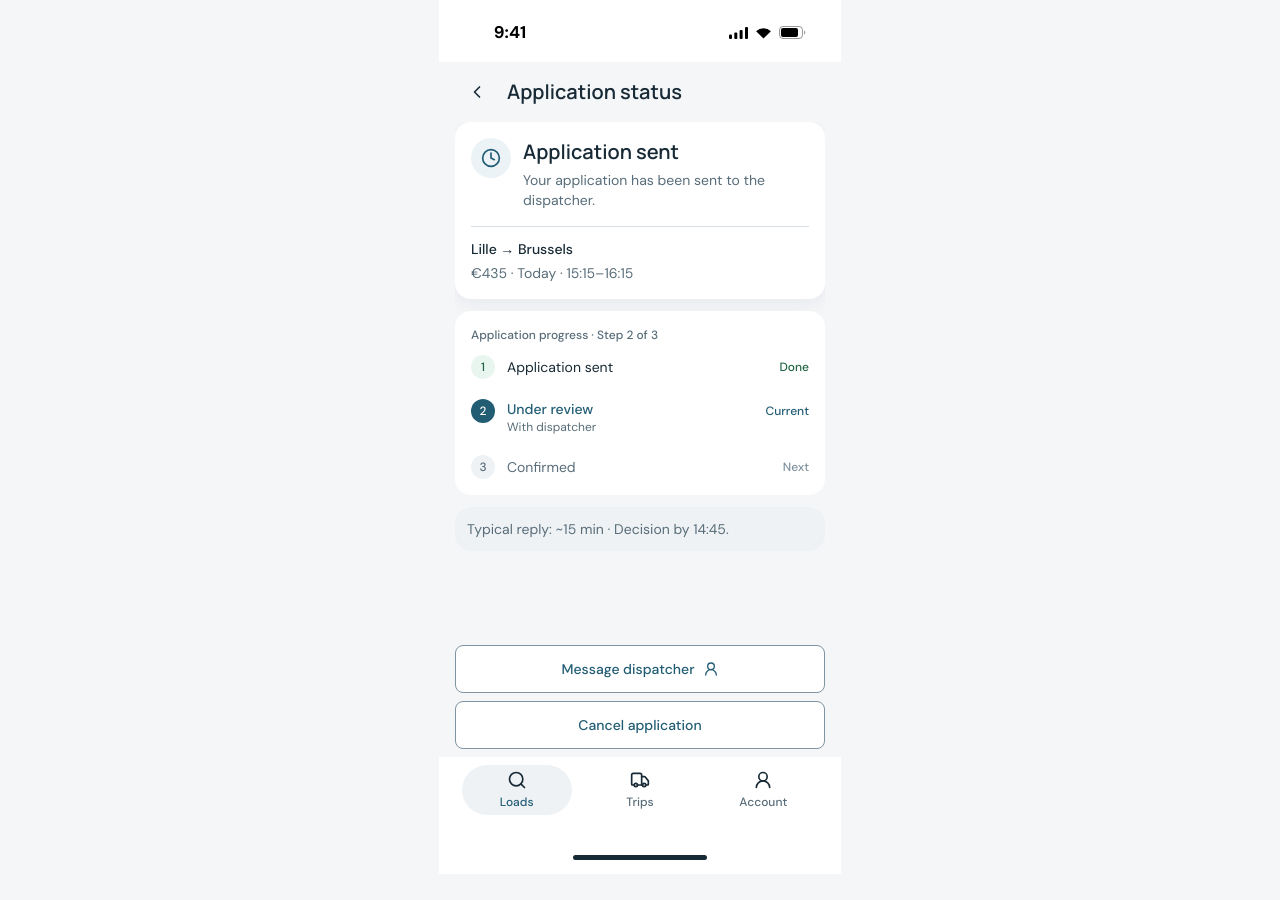
Test case: ApplicationTrackerView cancel confirmation › opens a sheet before cancelling
Click the button "Cancel application".
click(640, 725)  # box [455,701,825,749]
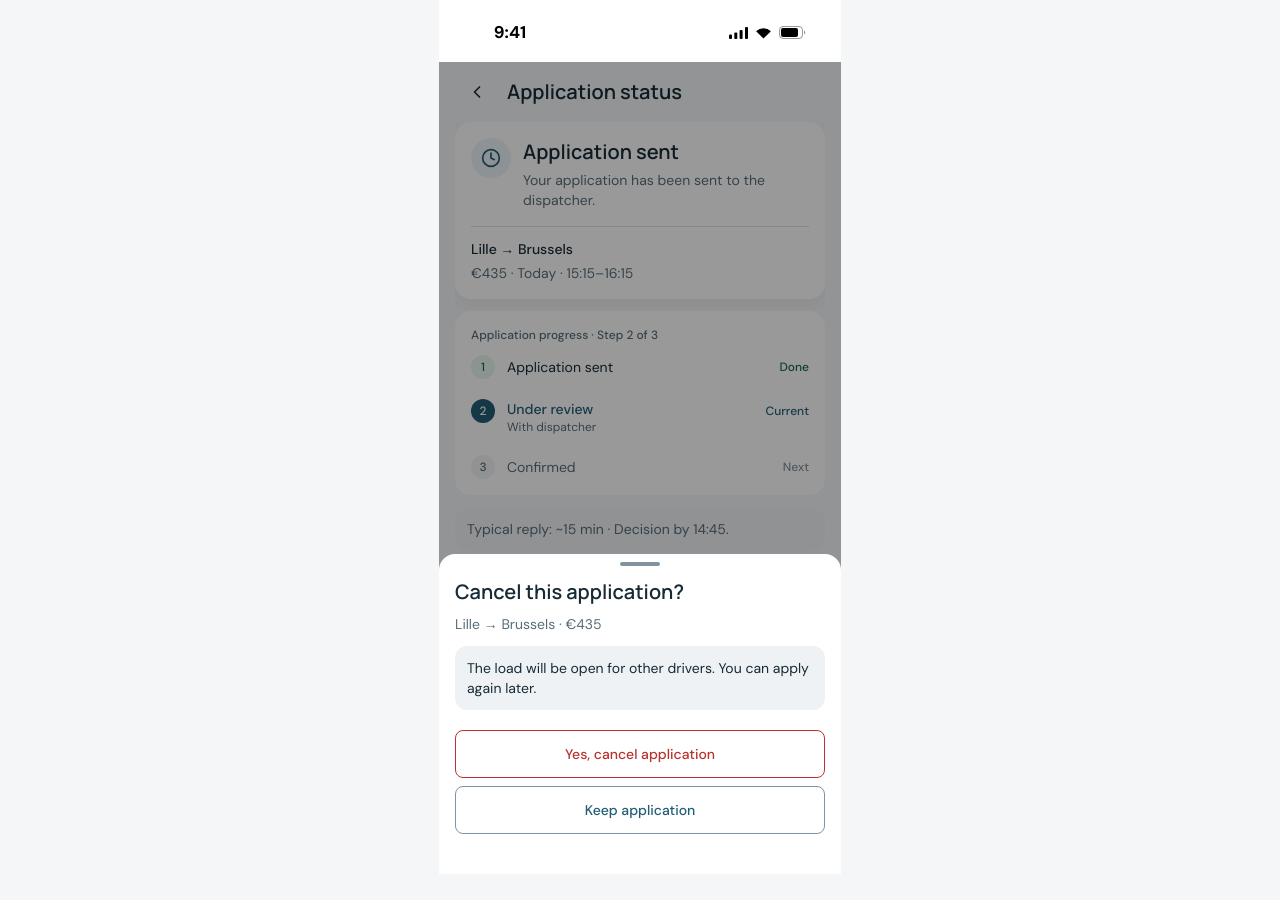
expect the dialog named "Cancel application Lille to Brussels" is shown: met, box [439,554,841,874]
